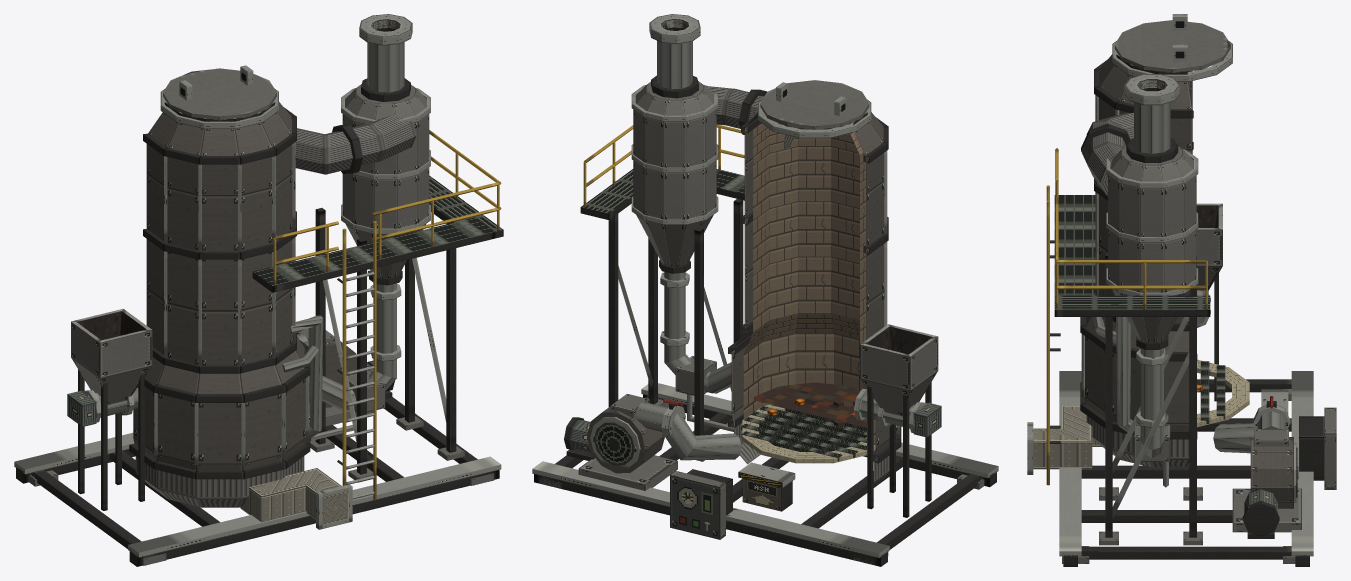
Rendered from fluidized_bed_combustor_cutaway.obj.
3 renders of one model, left to right at view 1: azimuth 30°, elevation 25°; view 2: azimuth 150°, elevation 25°; view 3: azimuth 270°, elevation 25°, orthographic. The views are drawn at different scales.
Parts seen in each view (by area): view 1: riser_shell, skid, cyclone_frame, cyclone, shell_bands, service_platform, fuel_hopper, crown, shell_ribs, crossover_flue, ladder, heat_outlet (+11 smaller); view 2: refractory_lining, skid, cyclone, cyclone_frame, riser_shell, distributor, fuel_hopper, crown, blower, flue_outlet, controller, primary_air (+15 smaller); view 3: skid, cyclone, riser_shell, service_platform, cyclone_frame, crown, flue_outlet, blower, heat_outlet, solids_return, shell_bands, distributor (+17 smaller).
Boxes of the visible parts, bbox=[...] form: riser_shell: bbox=[133, 102, 306, 470]; skid: bbox=[14, 397, 501, 566]; cyclone_frame: bbox=[310, 208, 464, 482]; cyclone: bbox=[342, 84, 429, 278]; shell_bands: bbox=[129, 107, 310, 479]; service_platform: bbox=[252, 175, 503, 292]; fuel_hopper: bbox=[71, 308, 152, 404]; crown: bbox=[160, 68, 278, 128]; shell_ribs: bbox=[154, 142, 308, 465]; crossover_flue: bbox=[295, 115, 416, 174]; ladder: bbox=[337, 221, 376, 500]; heat_outlet: bbox=[240, 468, 348, 524]; refractory_lining: bbox=[743, 122, 875, 449]; skid: bbox=[532, 383, 998, 566]; cyclone: bbox=[633, 81, 716, 266]; cyclone_frame: bbox=[608, 198, 743, 461]; riser_shell: bbox=[731, 112, 897, 460]; distributor: bbox=[741, 404, 875, 463]; fuel_hopper: bbox=[860, 324, 938, 416]; crown: bbox=[758, 80, 871, 138]; blower: bbox=[587, 394, 664, 473]; flue_outlet: bbox=[649, 14, 700, 98]; controller: bbox=[670, 471, 725, 539]; primary_air: bbox=[635, 399, 741, 460]; skid: bbox=[1059, 371, 1313, 566]; cyclone: bbox=[1108, 146, 1196, 342]; riser_shell: bbox=[1084, 54, 1192, 430]; service_platform: bbox=[1054, 195, 1210, 316]; cyclone_frame: bbox=[1099, 253, 1202, 545]; crown: bbox=[1112, 20, 1232, 81]; flue_outlet: bbox=[1124, 74, 1179, 162]; blower: bbox=[1250, 429, 1298, 508]; heat_outlet: bbox=[1033, 406, 1101, 469]; solids_return: bbox=[1136, 348, 1168, 457]; shell_bands: bbox=[1080, 59, 1197, 439]; distributor: bbox=[1197, 359, 1249, 427].
Bounding box in the file's own units: 6.9 × 7.97 × 5.
1 material, 1 textured.
